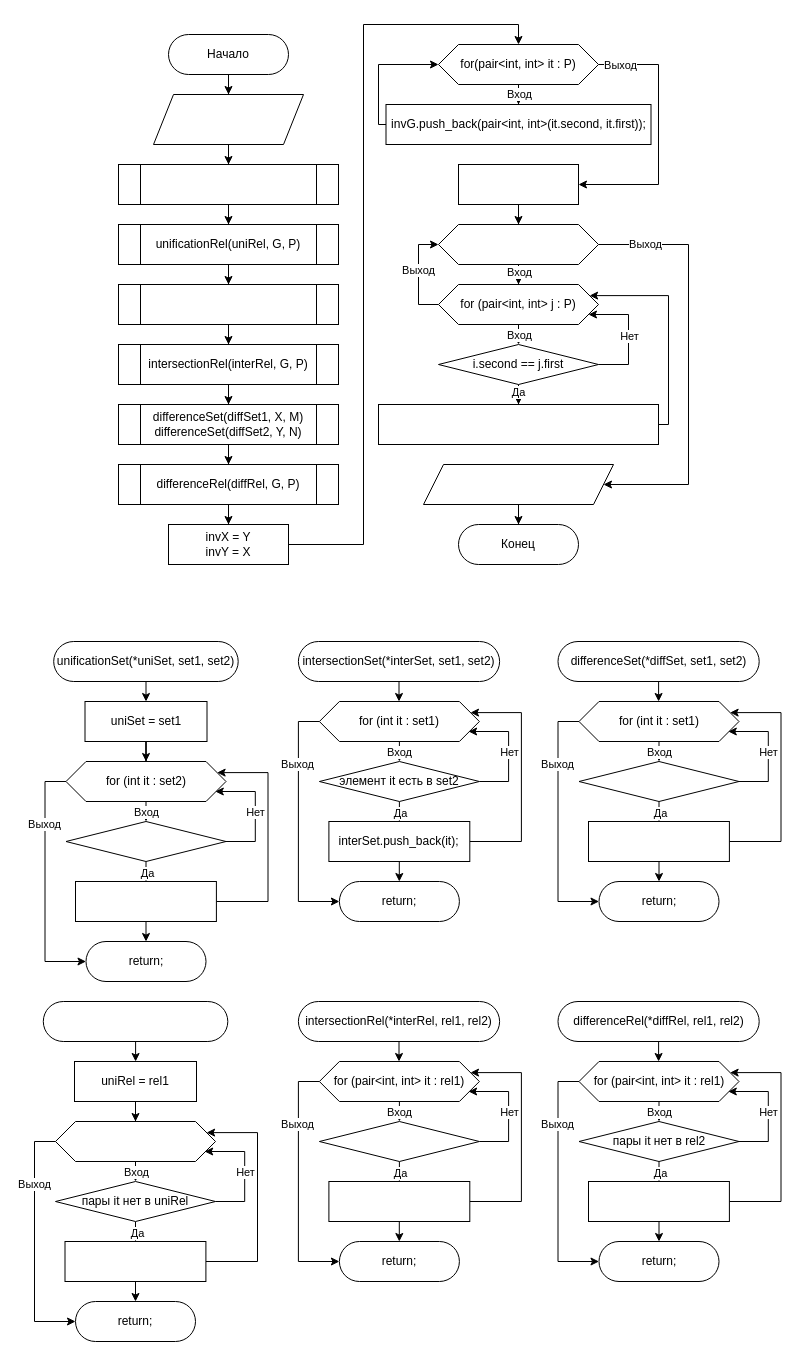
The diagram is 806 pixels wide and 1359 high, and some of its shapes have lost their labels. Each missing label, with the centre of its shape:
"compRel.push_back(pair<int, int>(i.first, j.second));" belongs at pixel 518 424.
"compX = X compN = N" belongs at pixel 518 184.
"diffRel.push_back(it);" belongs at pixel 658 1201.
"diffSet.push_back(it);" belongs at pixel 658 841.
"for (pair<int, int> i : G)" belongs at pixel 518 244.
"for (pair<int, int> it : rel2)" belongs at pixel 135 1141.
"interRel.push_back(it);" belongs at pixel 399 1201.
"intersectionSet(interSet1, X, M) intersectionSet (interSet2, Y, N)" belongs at pixel 228 304.
"unificationRel(*uniRel, rel1, rel2)" belongs at pixel 135 1021.
"unificationSet(uniSet1, X, M) unificationSet(uniSet2, Y, N)" belongs at pixel 228 184.
"uniRel.push_back(it);" belongs at pixel 135 1261.
"uniSet.push_back(it);" belongs at pixel 145 901.
"Ввод соответствий Г1 = <X, Y, G>, Г2 = <M, N, P>" belongs at pixel 228 119.
"Вывод введенных данных и результаты всех операций" belongs at pixel 518 484.
"пара it есть в rel2" belongs at pixel 398 1141.
"элемента it нет в set2" belongs at pixel 658 781.
"элемента it нет в uniSet" belongs at pixel 145 841.
